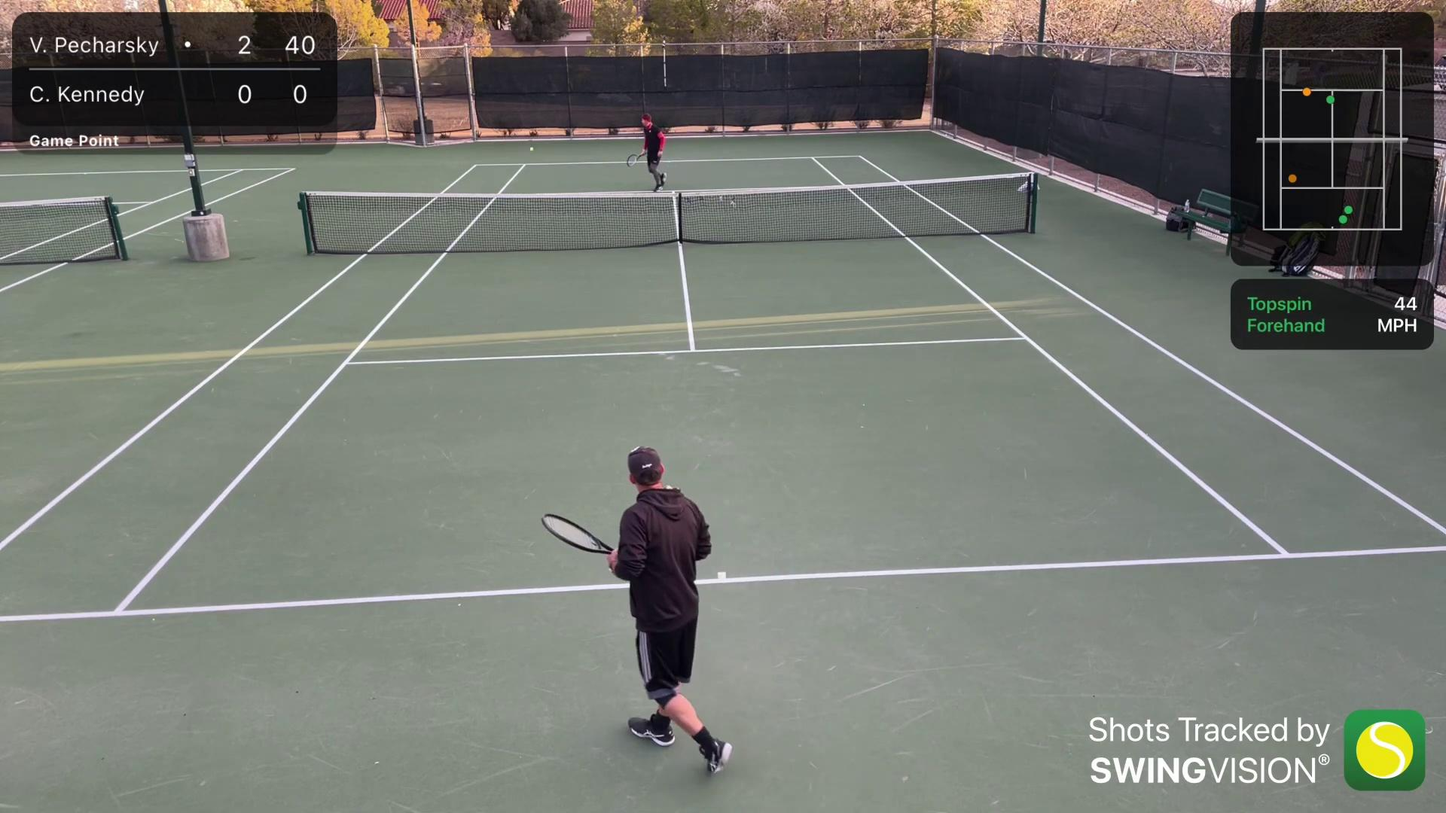ball: (528, 146, 535, 152)
